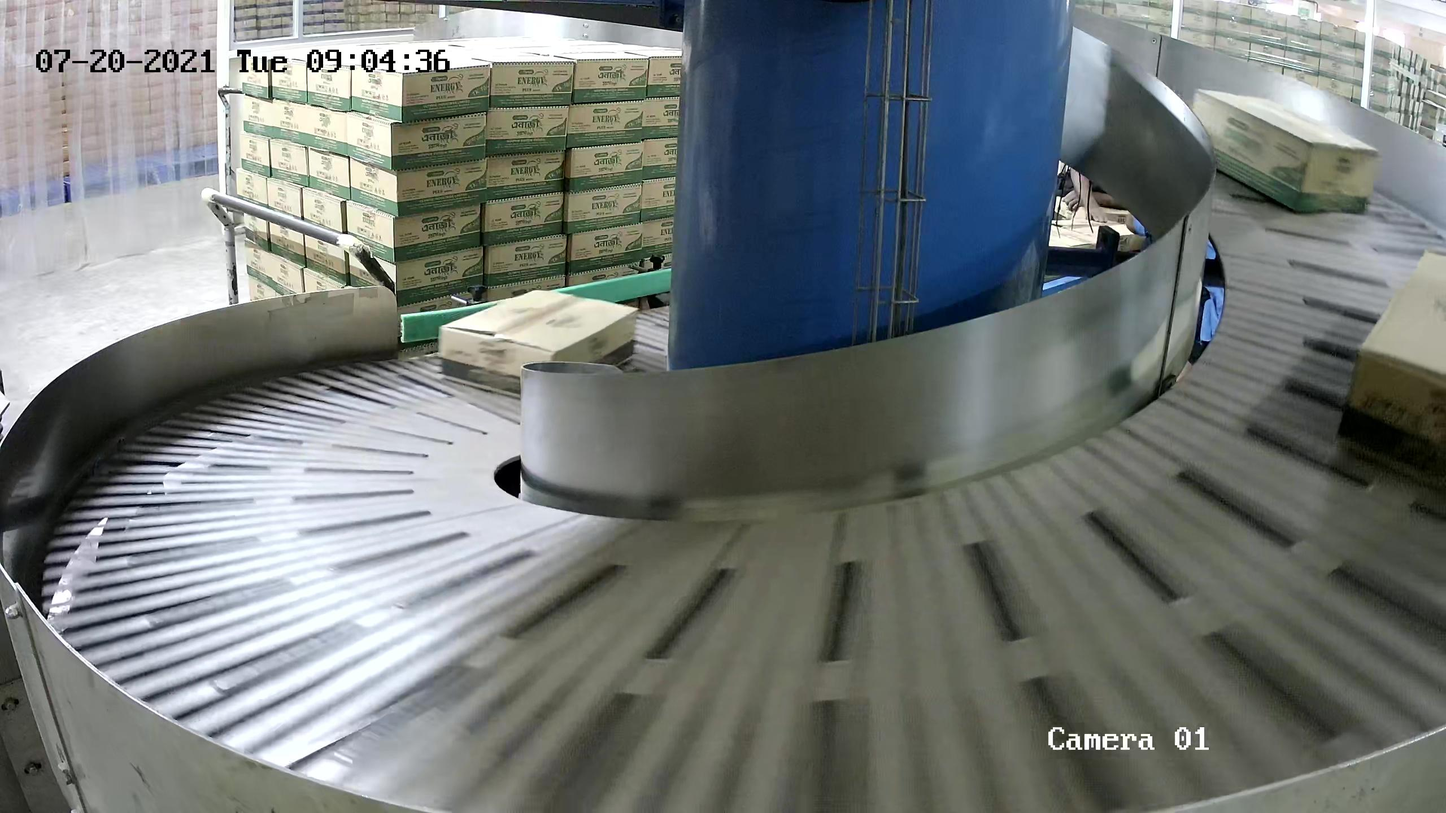Box: (1336, 247, 1446, 488), (1192, 87, 1382, 213), (437, 289, 640, 400)
